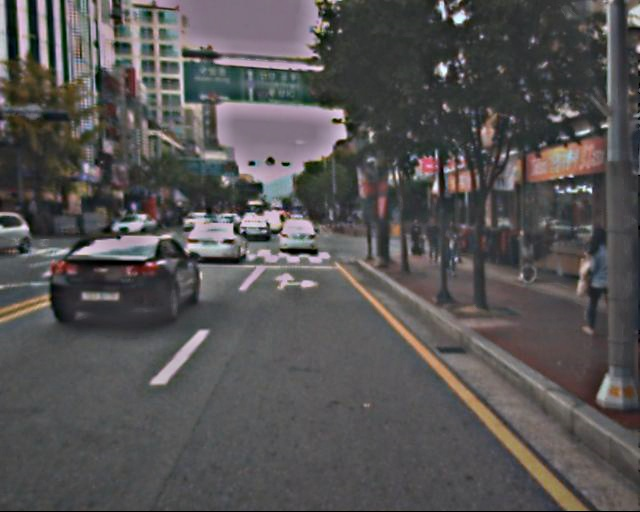person: (567, 225, 624, 338), (441, 219, 464, 276), (423, 216, 443, 265), (409, 219, 426, 260)
